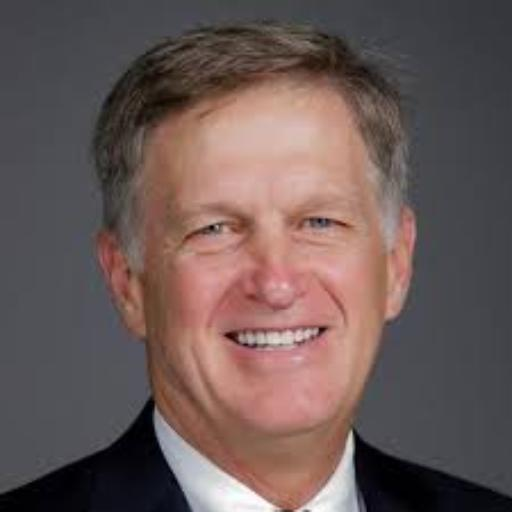left_eye: (292, 216, 354, 238)
left_lip_corner: (319, 320, 342, 339)
right_eye: (184, 221, 244, 245)
right_lip_corner: (216, 327, 236, 351)
